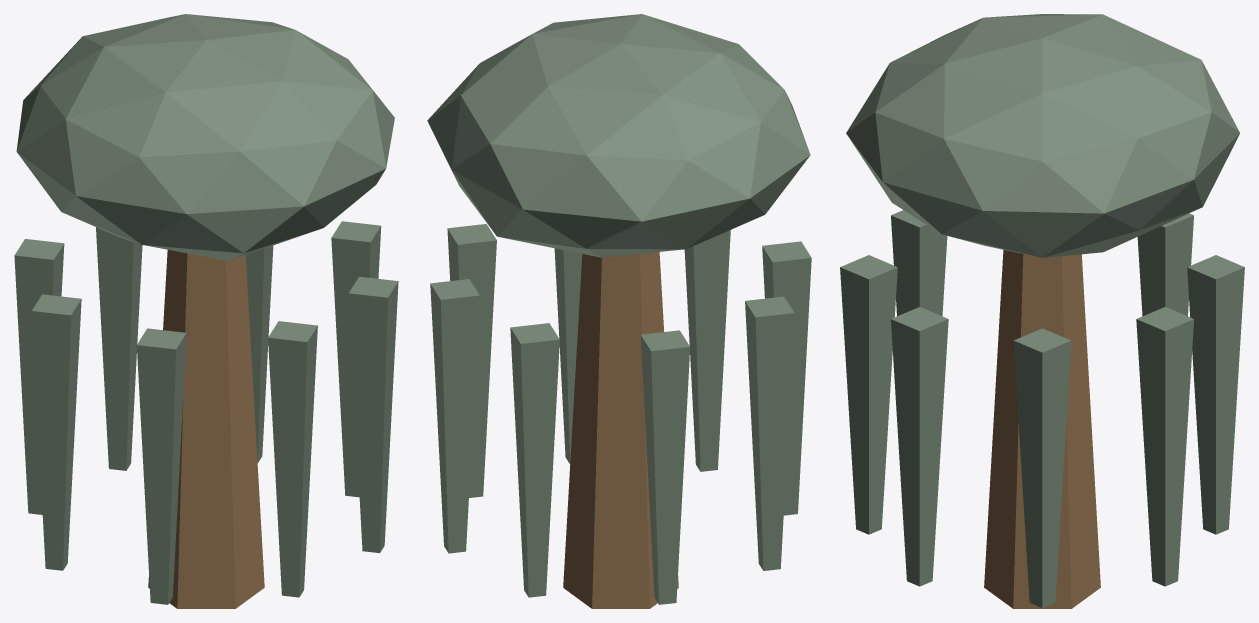
The model's file is willow.glb.
3 renders of one model, left to right at view 1: azimuth 30°, elevation 25°; view 2: azimuth 150°, elevation 25°; view 3: azimuth 270°, elevation 25°, orthographic.
Visible parts, largest first — view 1: graveyard-willow; view 2: graveyard-willow; view 3: graveyard-willow.
Boxes of the visible parts, bbox=[...] form: graveyard-willow: bbox=[14, 14, 398, 608]; graveyard-willow: bbox=[427, 14, 811, 608]; graveyard-willow: bbox=[840, 14, 1244, 608].
Size of the model in its own units: 0.693 by 1.04 by 0.693.
